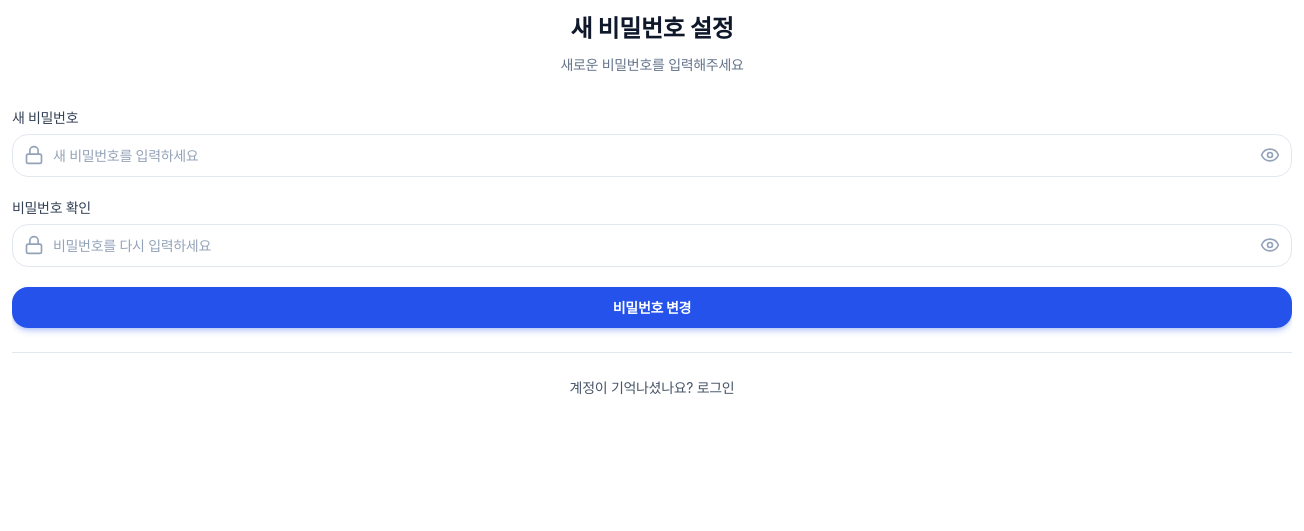
ResetPasswordForm › 유효성 검사 › 비밀번호가 8자 미만이면 에러 메시지가 표시된다
This screenshot has width=1304, height=531.
Type "short1" into the password field with placeholder "새 비밀번호를 입력하세요" at point(652, 155), box [12, 134, 1292, 177]
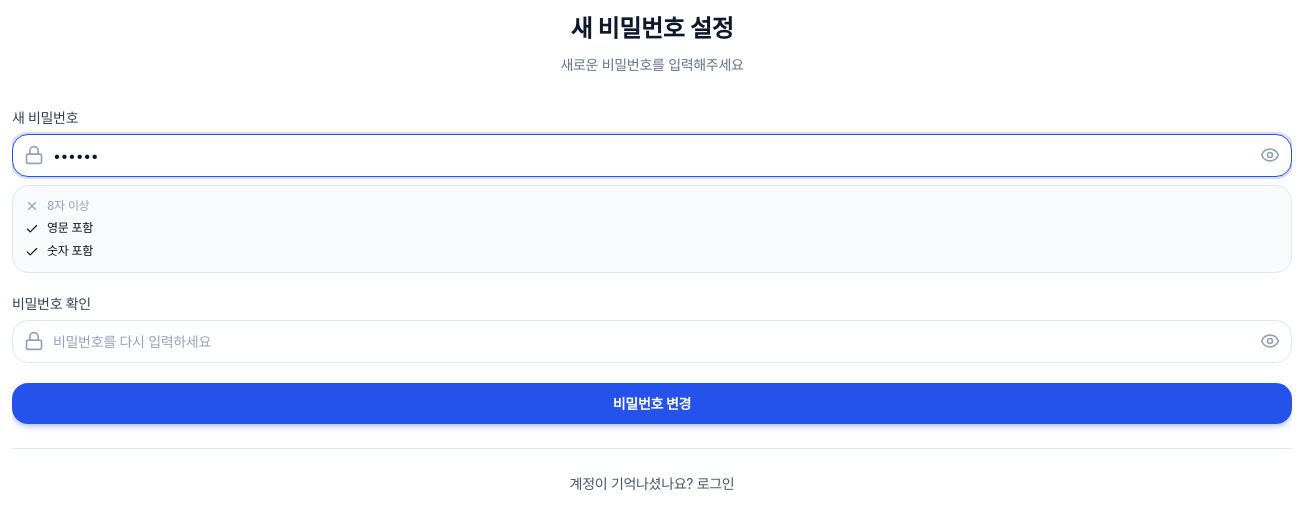
Press Tab
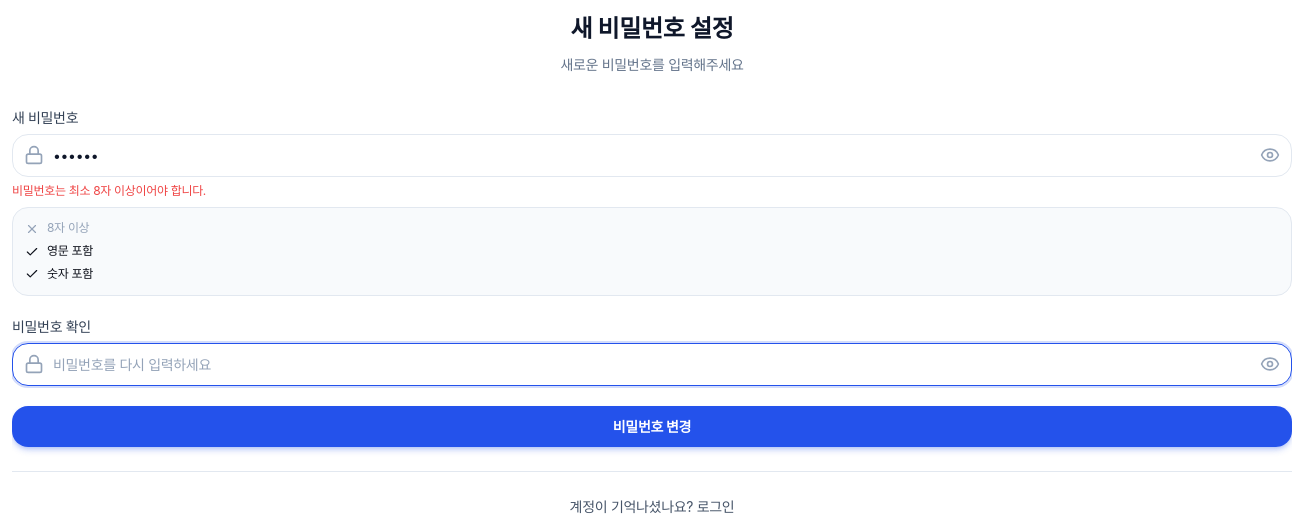
Check: the text "비밀번호는 최소 8자 이상이어야 합니다." is shown, box [12, 183, 206, 198]
